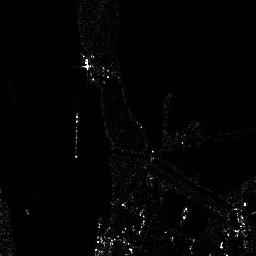ship: (73, 112, 79, 159)
